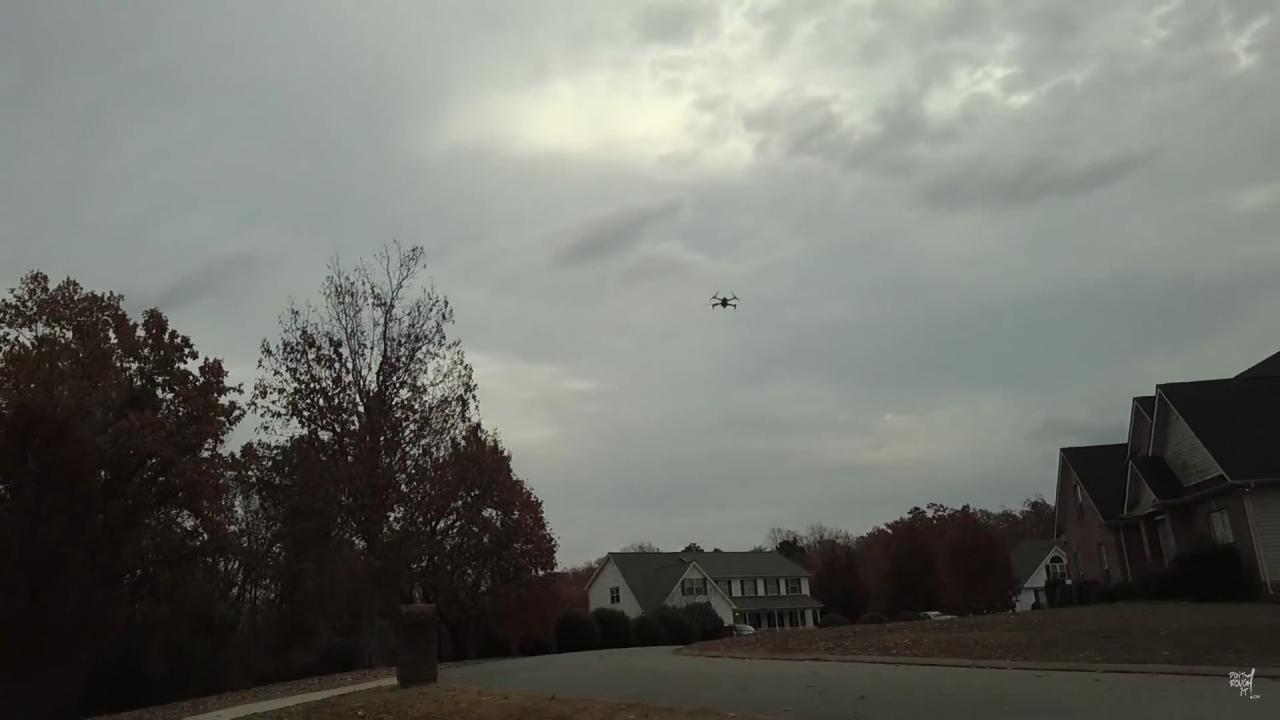Drone: (700, 280, 748, 322)
